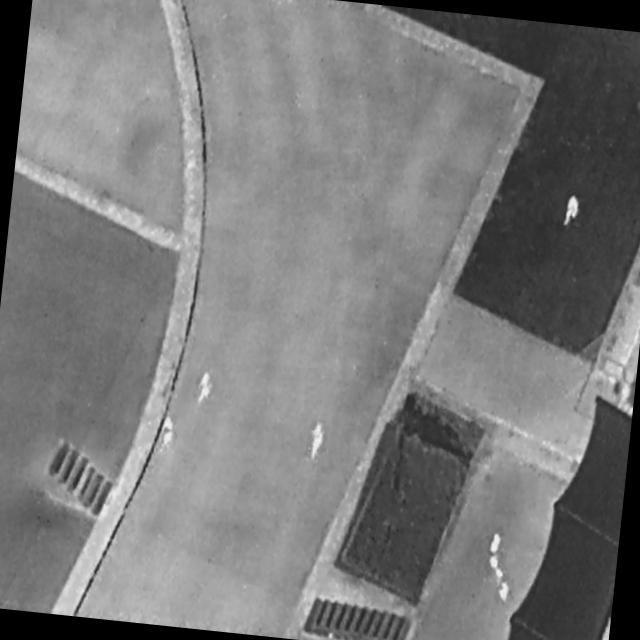person: (193, 369, 218, 411), (562, 189, 584, 230), (156, 415, 177, 454), (308, 421, 327, 463)
